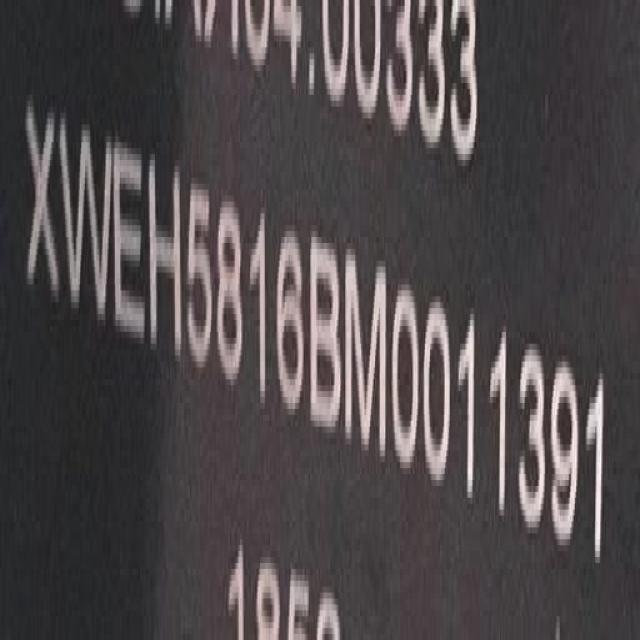0: (423, 284, 454, 493), (393, 266, 422, 476)
1: (249, 193, 271, 410), (488, 312, 509, 525), (460, 298, 480, 511), (588, 367, 608, 569)
3: (515, 332, 547, 549)
5: (188, 167, 216, 380)
6: (275, 214, 306, 423)
8: (215, 186, 245, 396)
9: (549, 349, 580, 556)
B: (308, 225, 343, 442)
E: (113, 125, 147, 358)
H: (147, 135, 183, 368)
M: (343, 232, 390, 483)
W: (58, 98, 113, 334)
X: (24, 91, 59, 314)
